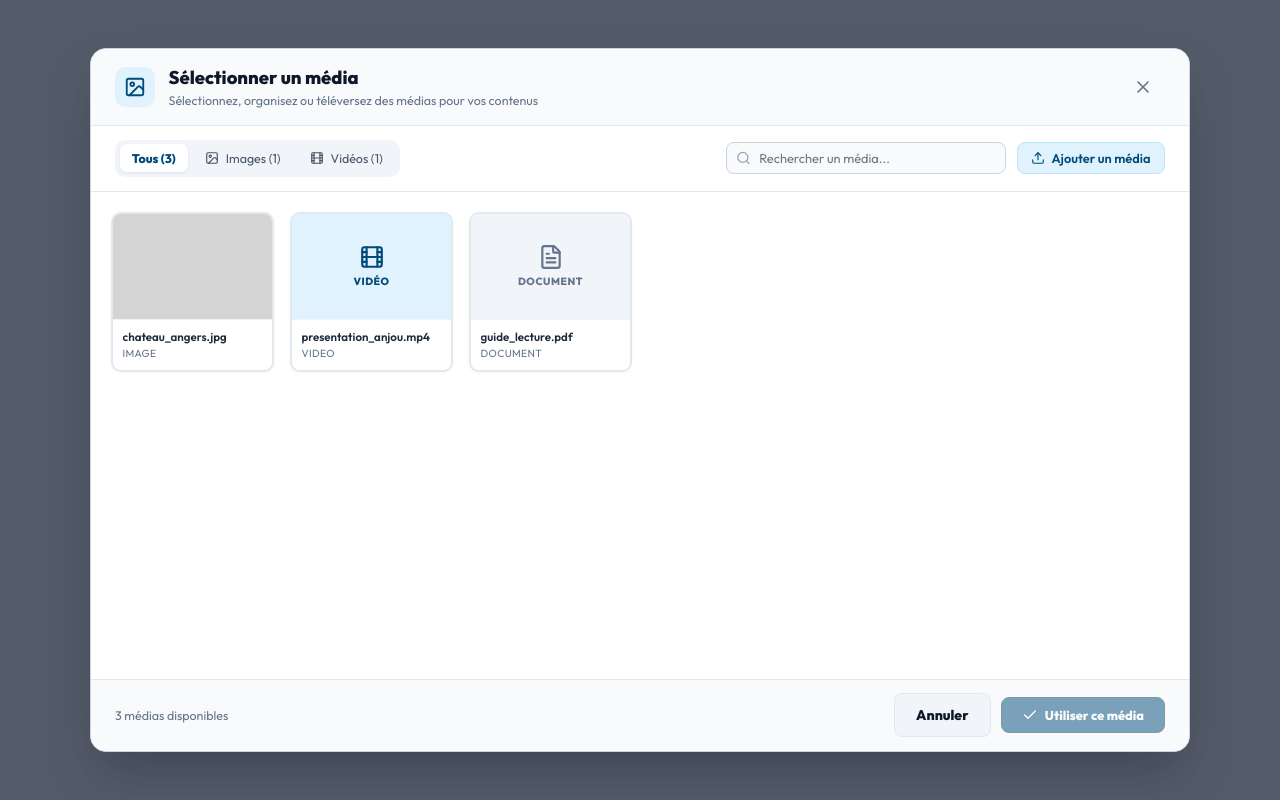
Test: MediaLibraryModal component tests › filters media when clicking category tabs
Expected: the text "chateau_angers.jpg" is shown, [123,329,227,344]
Clic sur l'onglet Images
Click the tab "Images (1)". click: (243, 158)
box: [193,144,293,172]
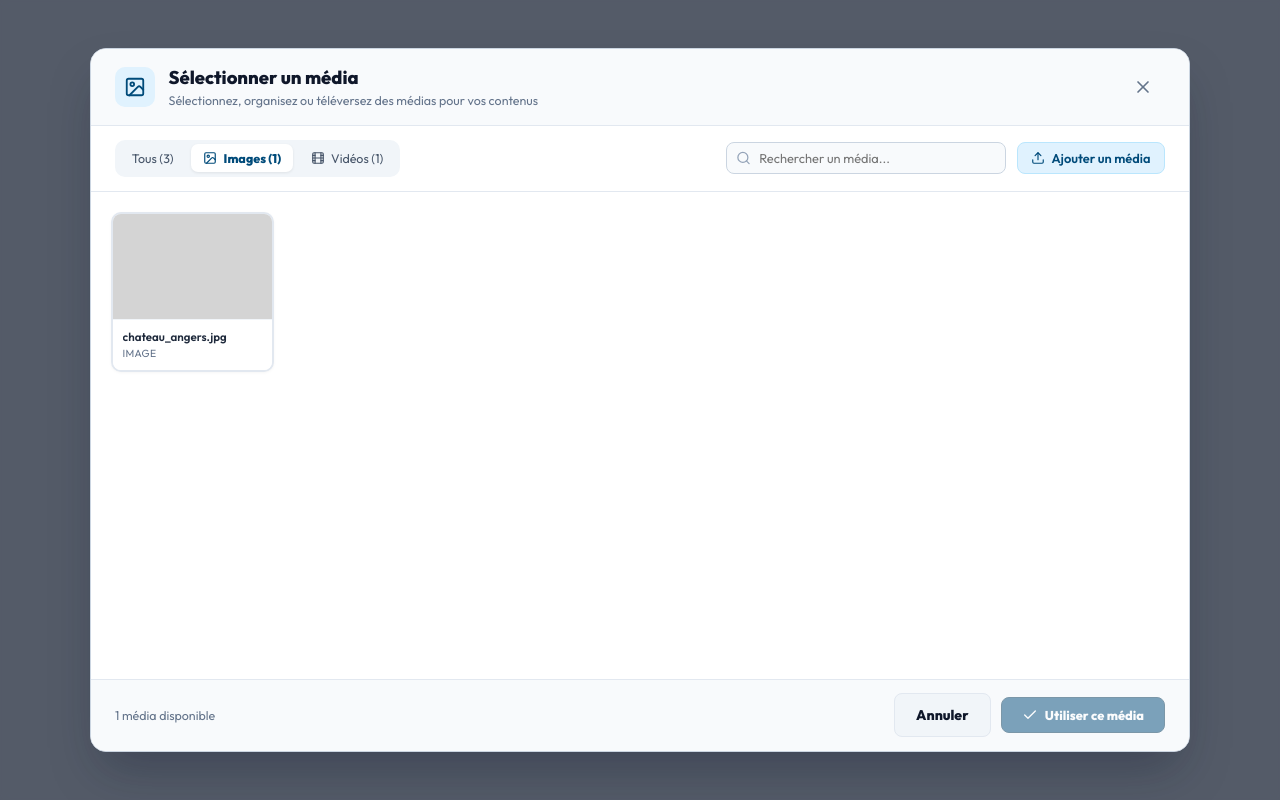
Expected: the text "chateau_angers.jpg" is shown, [123,329,227,344]
Result: the option "presentation_anjou.mp4" is gone
Result: the option "guide_lecture.pdf" is gone
Clic sur l'onglet Vidéos
Click the tab "Vidéos (1)". click: (347, 158)
box: [299,144,395,172]
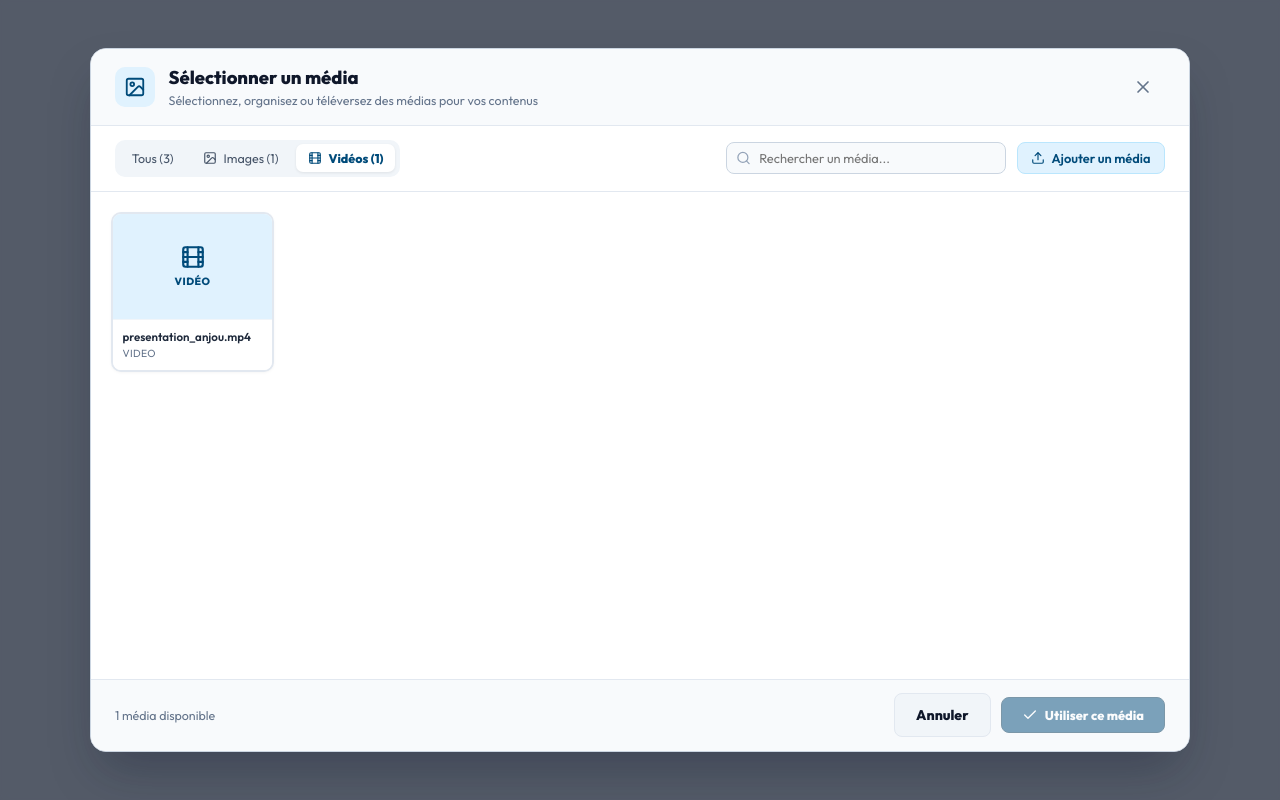
Result: the option "chateau_angers.jpg" is gone
Result: the text "presentation_anjou.mp4" is shown at [123,329,262,344]
